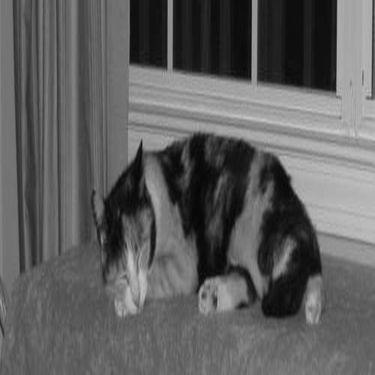cat: (69, 150, 337, 327)
